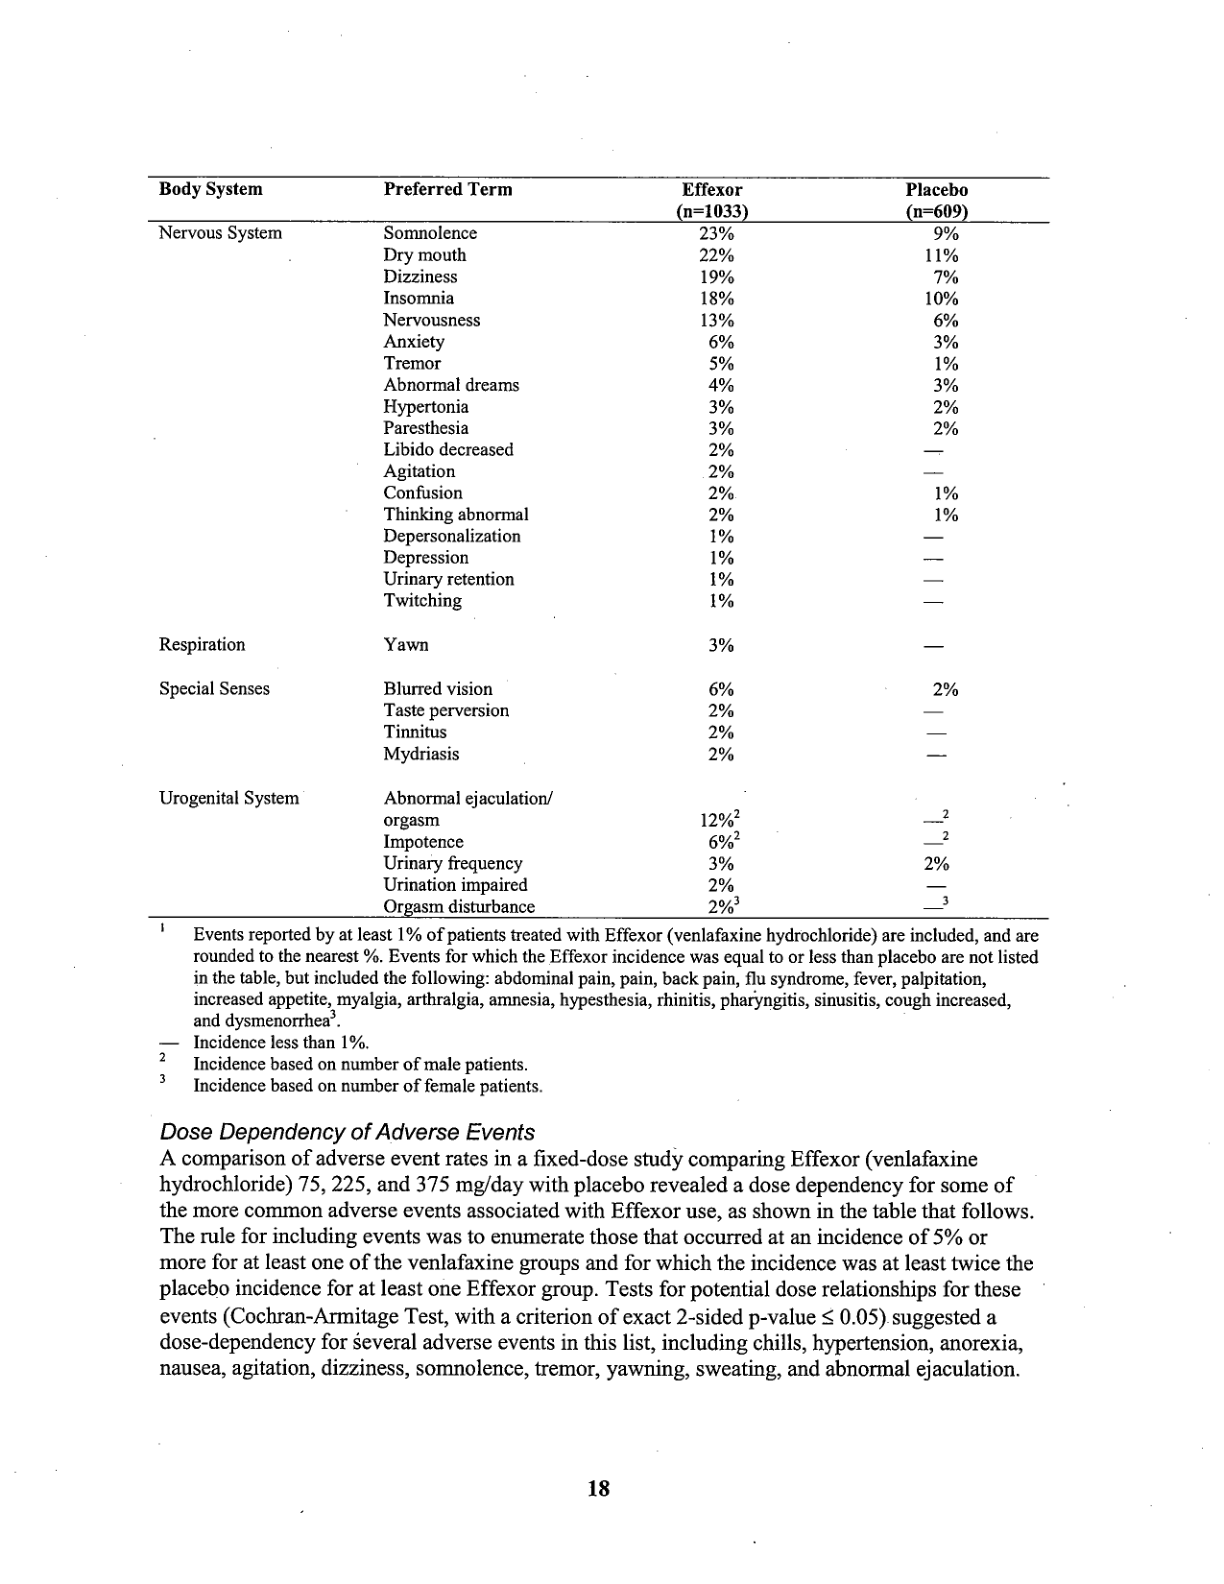partial_lined: (145, 174, 1053, 921)
